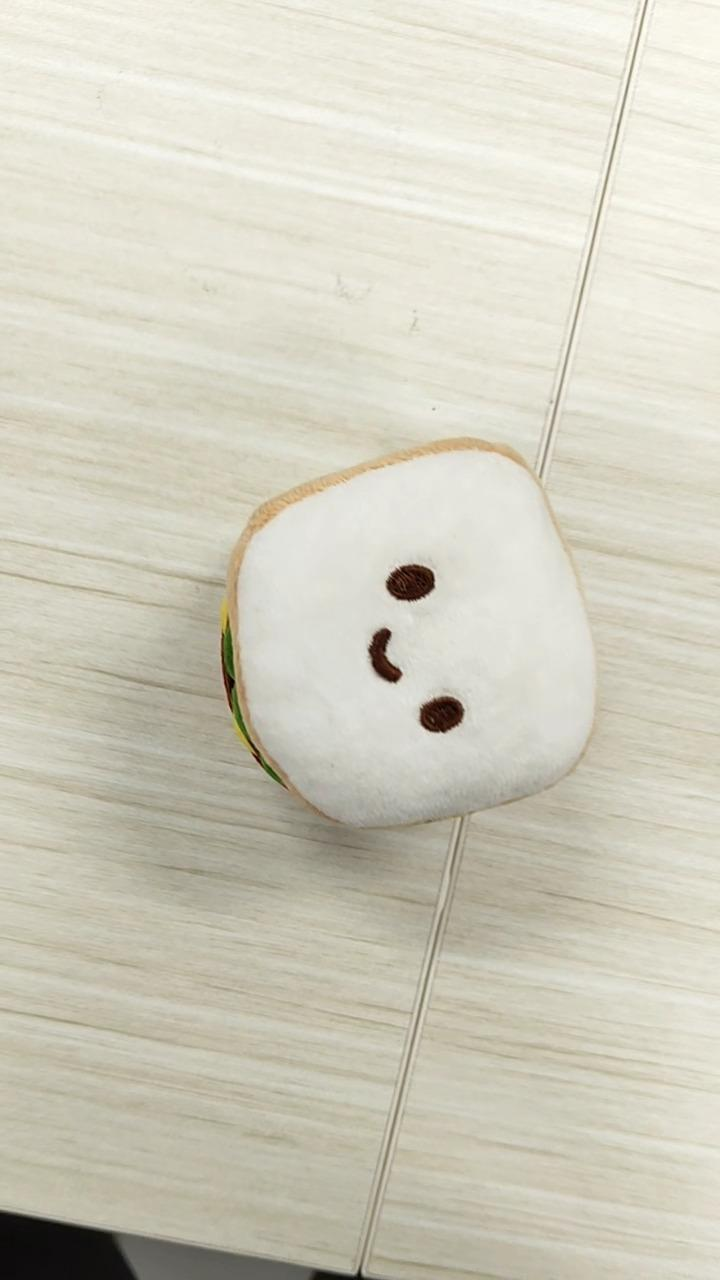objects: (218, 434, 598, 830)
